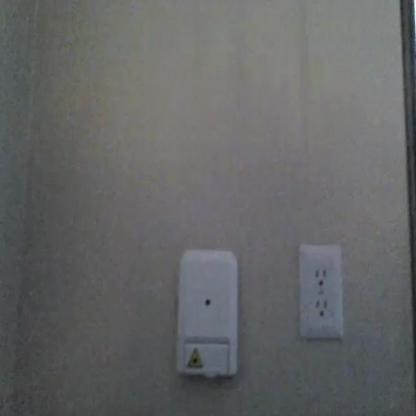OUTLET: (299, 244, 344, 339)
